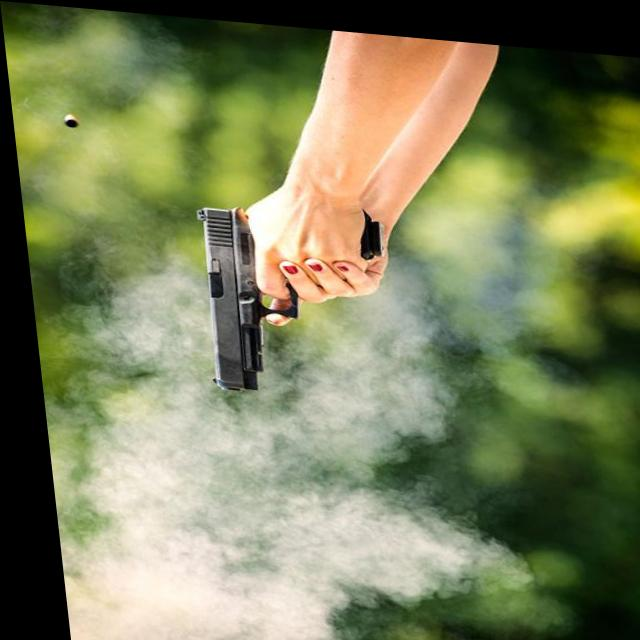handgun: (194, 201, 403, 397)
